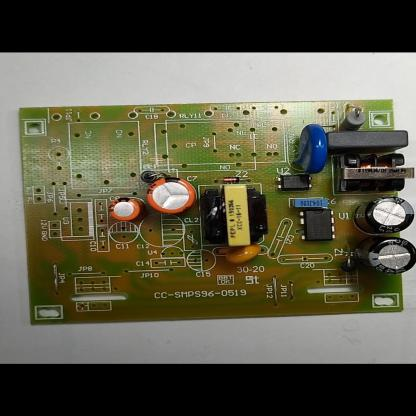Cap1: (146, 176, 196, 215)
Cap2: (108, 198, 142, 220)
Cap3: (355, 195, 415, 235)
Cap4: (354, 238, 416, 274)
MOSFET: (297, 209, 336, 240)
Mov: (290, 122, 332, 175)
Resistor: (335, 109, 369, 129)
Transformer: (202, 184, 270, 247), (335, 152, 415, 192)
